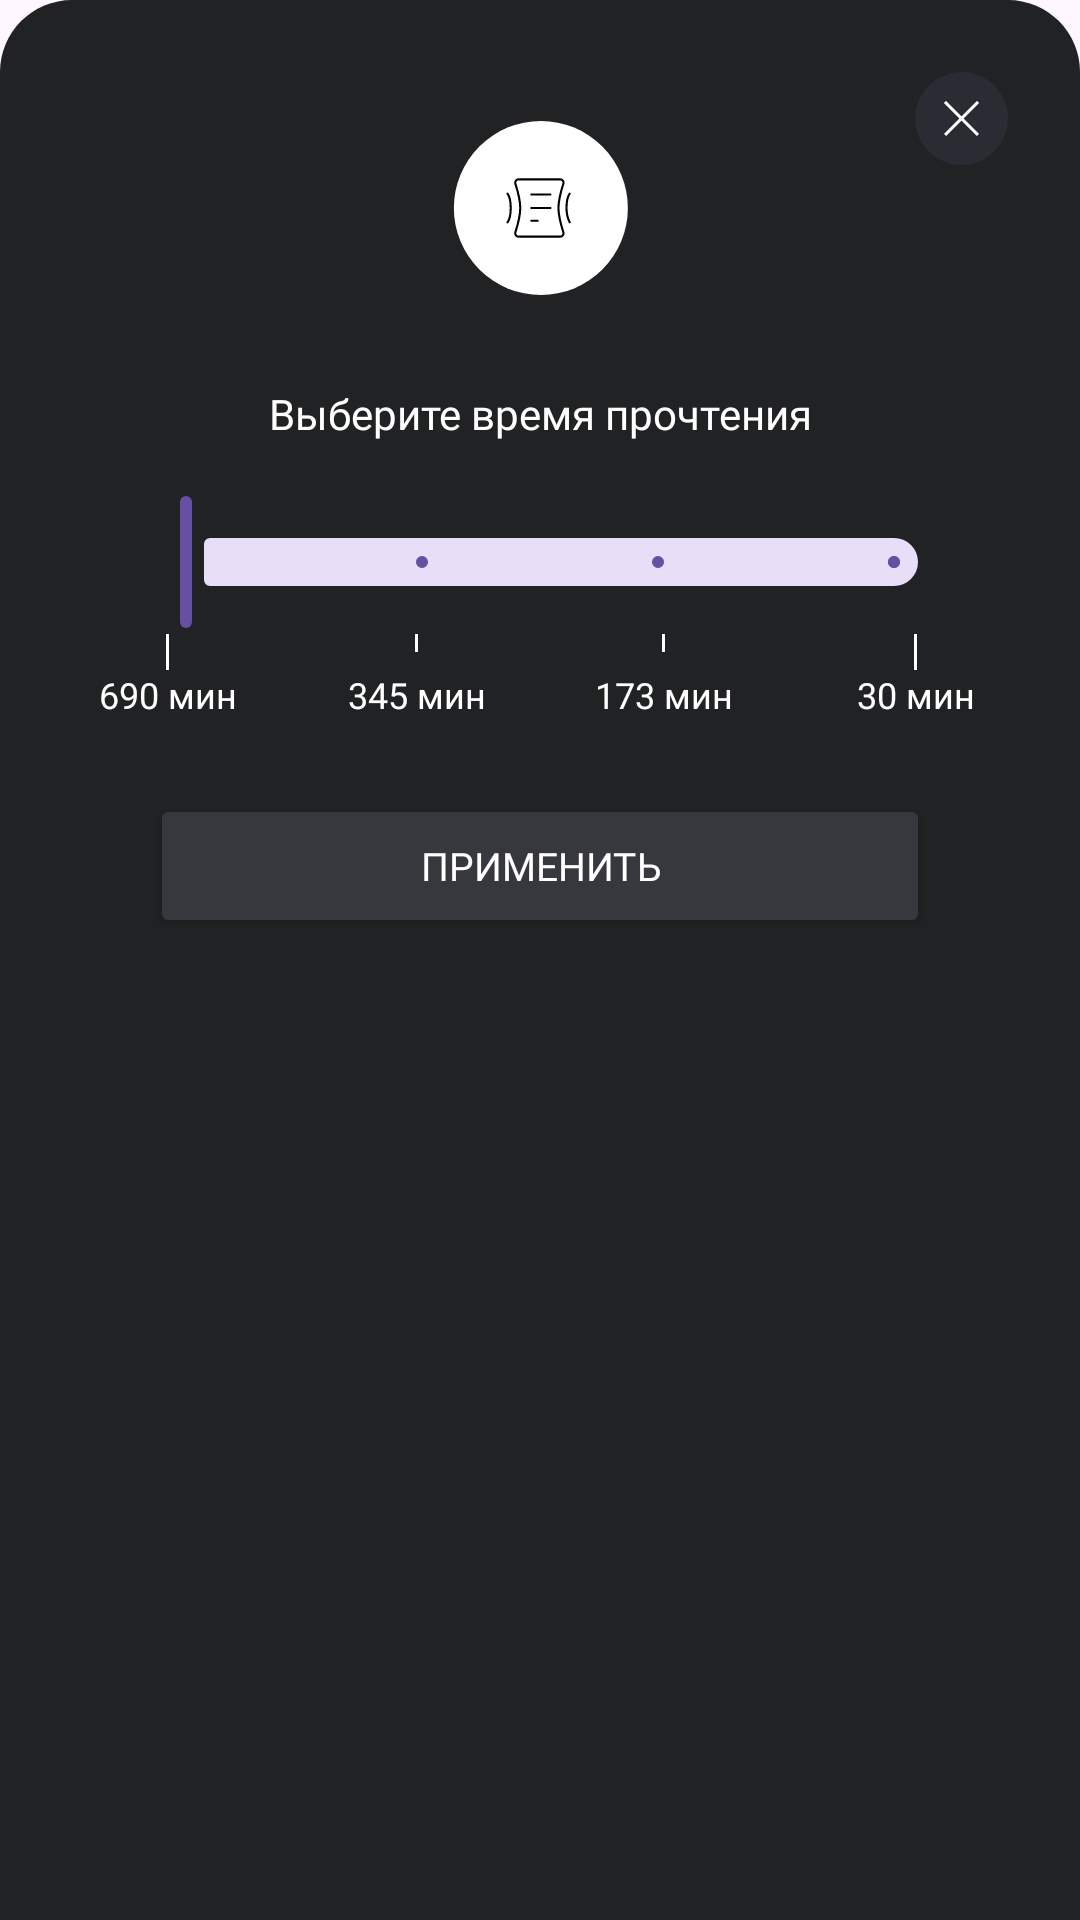

Screen size 1080px x 1920px. Icon name, then its center in pixels as (x=x, y=y):
compress: (x=540, y=208)
Закрыть: (x=961, y=118)
